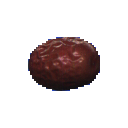gd: (17, 21, 116, 112)
